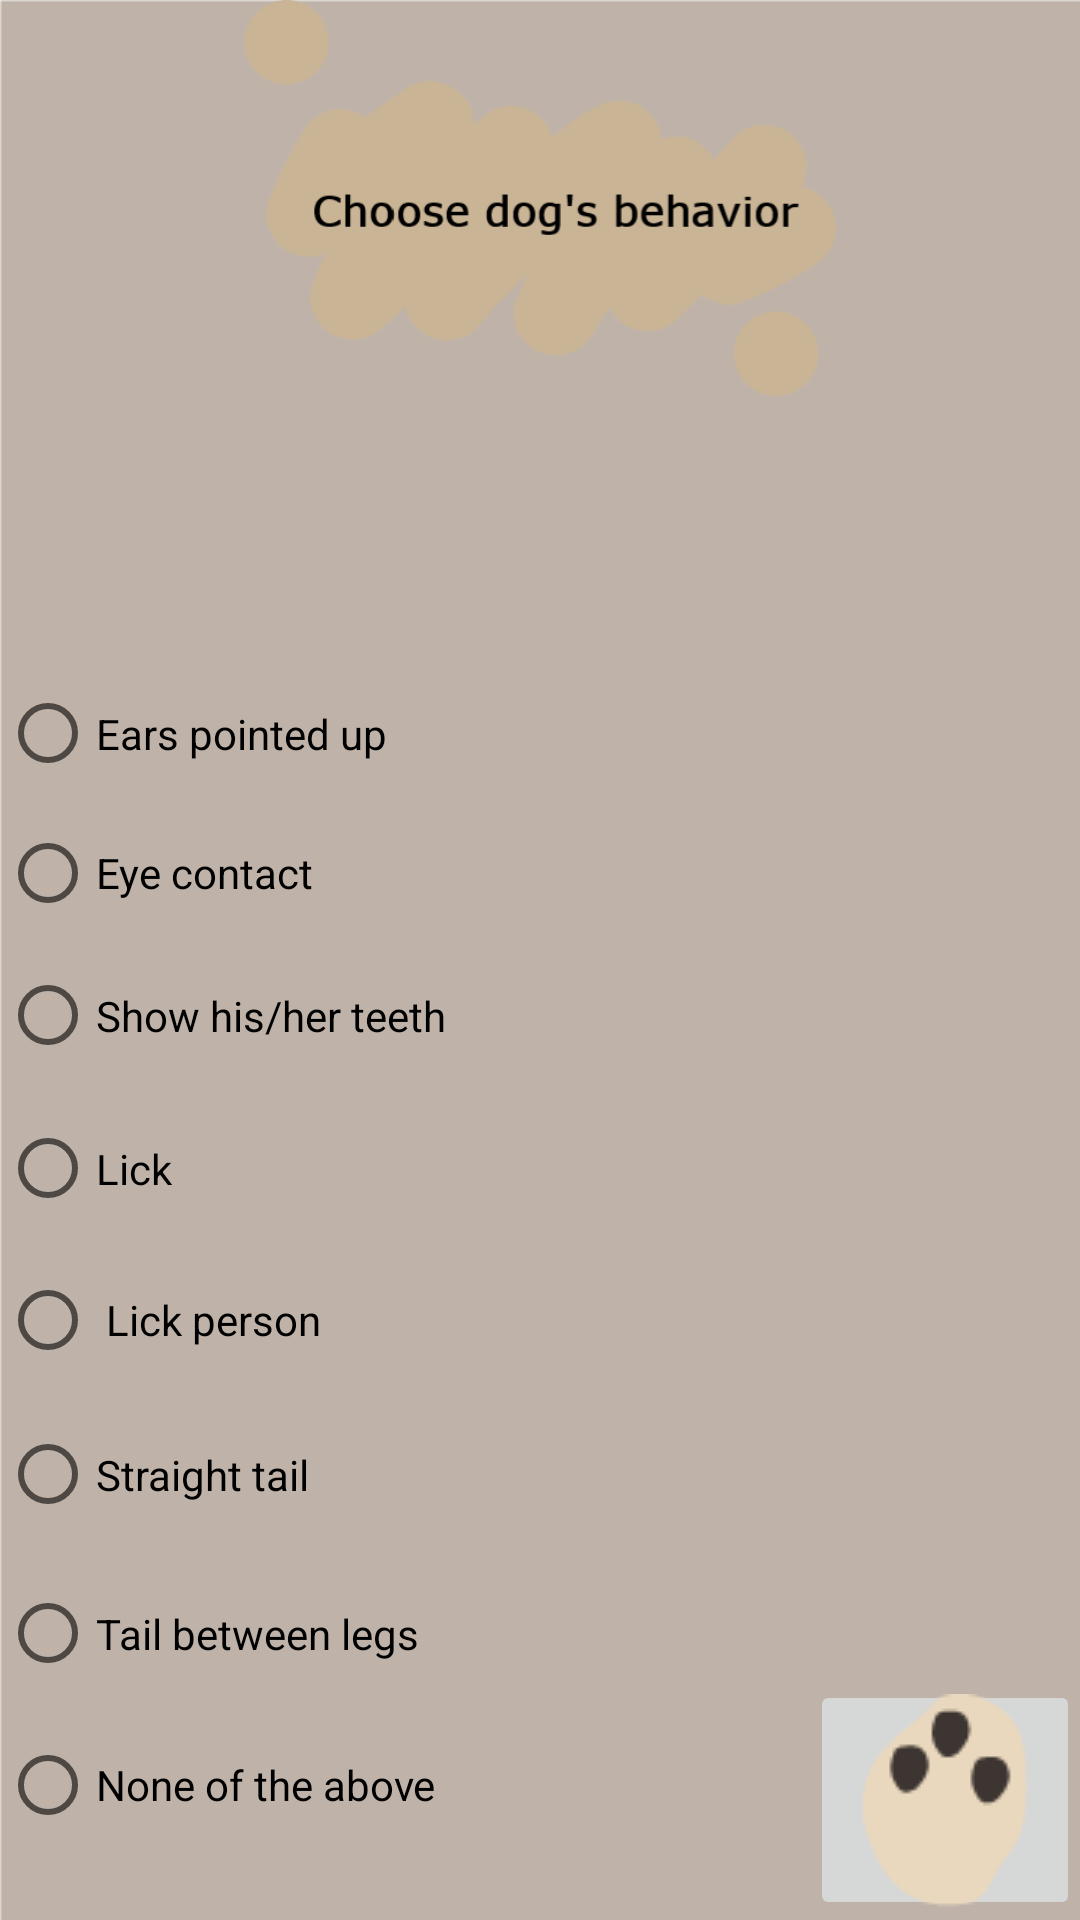

Locate icon controls on the screen. Image size 1080px x 1920px, boxes as bbox=(x1, y1, x2, y2).
pawbutton: bbox=(822, 1694, 1068, 1904)
